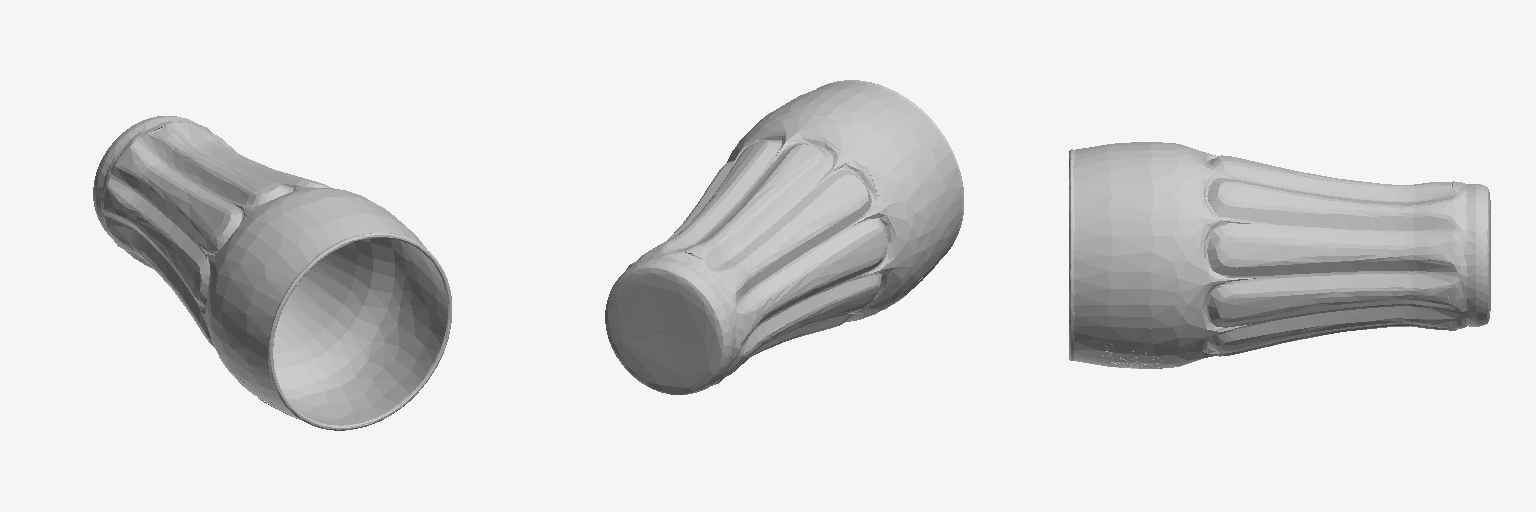
Rendered from CocaCola_Glass_low.obj.
The picture shows the model from 3 angles: view 1: azimuth 30°, elevation 25°; view 2: azimuth 150°, elevation 25°; view 3: azimuth 270°, elevation 25°; orthographic projection.
Parts seen in each view (by area): view 1: Object.1; view 2: Object.1; view 3: Object.1.
Part boxes in pixels (x1,y1,x2,y2): Object.1: (93,116,451,430); Object.1: (605,80,963,394); Object.1: (1069,142,1490,368).
Size of the model in its own units: 357 by 359 by 661.